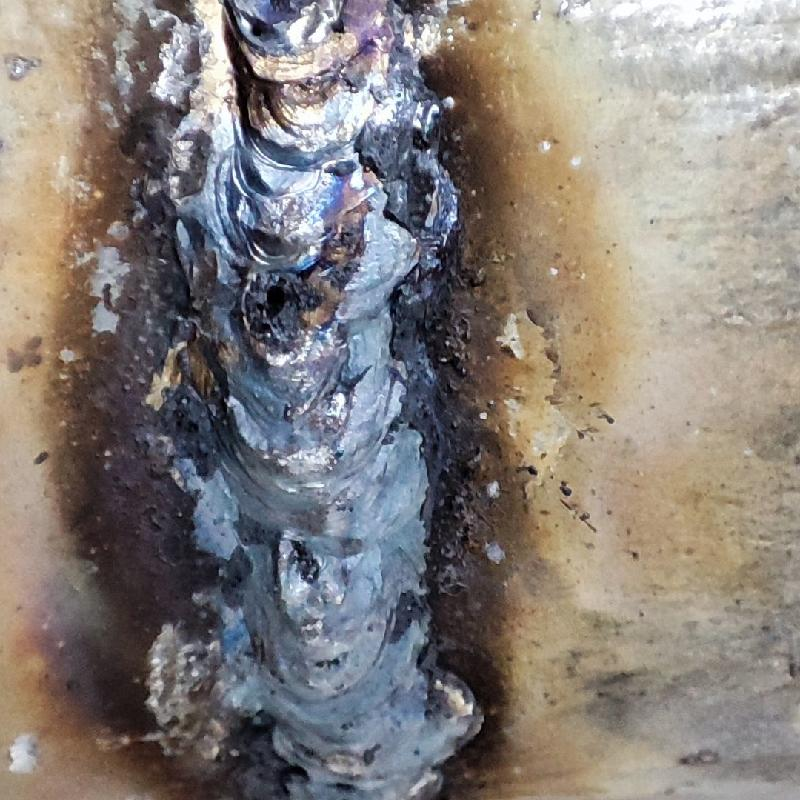Surface_pores: (242, 265, 305, 325), (238, 10, 290, 56)
